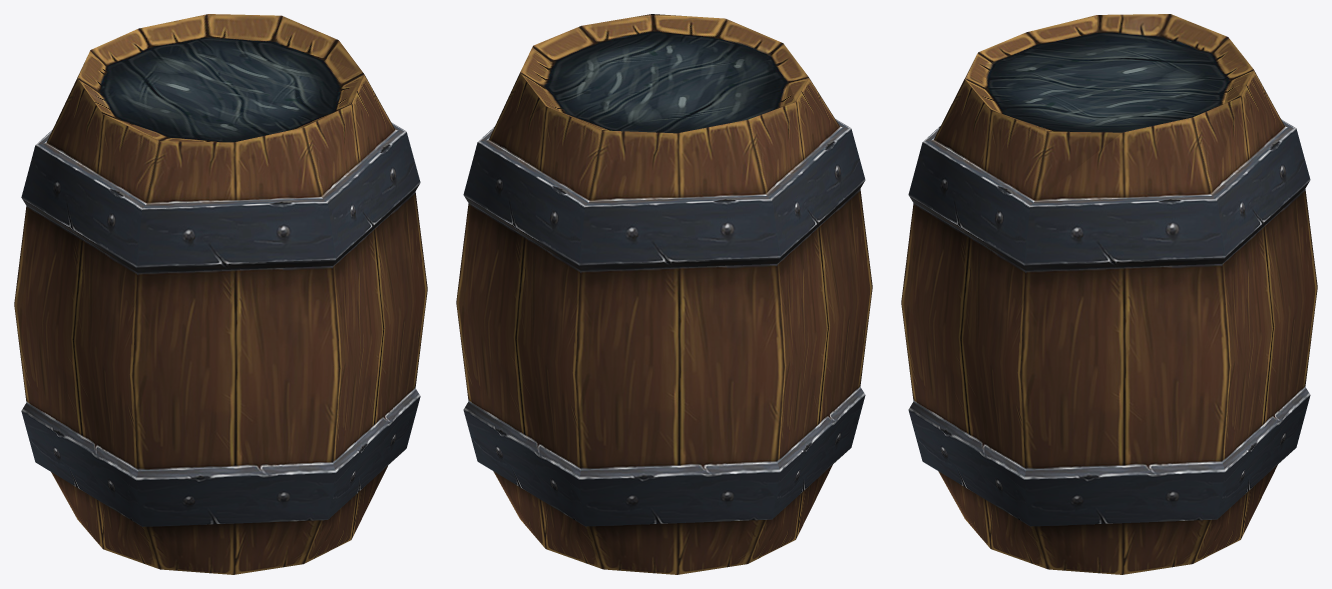
The model's file is barrel_02.fbx.
3 renders of one model, left to right at view 1: azimuth 30°, elevation 25°; view 2: azimuth 150°, elevation 25°; view 3: azimuth 270°, elevation 25°, orthographic.
Parts seen in each view (by area): view 1: barrel_02; view 2: barrel_02; view 3: barrel_02.
Boxes of the visible parts, left/top/right/bottom form: barrel_02: left=14, top=14, right=427, bottom=574; barrel_02: left=456, top=14, right=872, bottom=574; barrel_02: left=901, top=14, right=1317, bottom=574.
Size of the model in its own units: 784 by 862 by 1020.
Materials: 1 (1 with a texture image).
